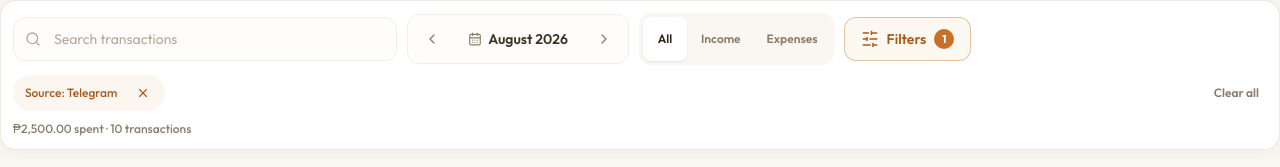
Test: TransactionFiltersBar › cancels pending search input when Clear all is pressed
Type "Amazon" into the search field labelled "Search transactions" at coordinates (205, 39), box [13,17,397,61]
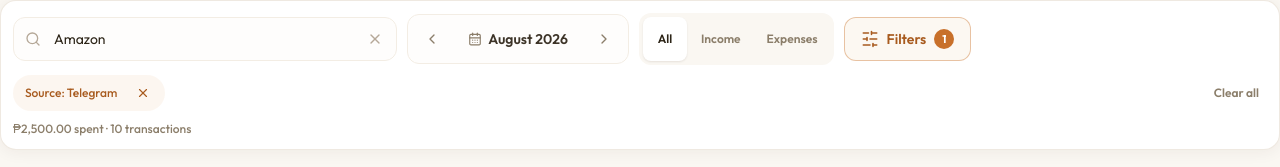
Click the button "Clear all" at coordinates (1236, 93), box [1206,75,1267,111]
Wait 300 ms
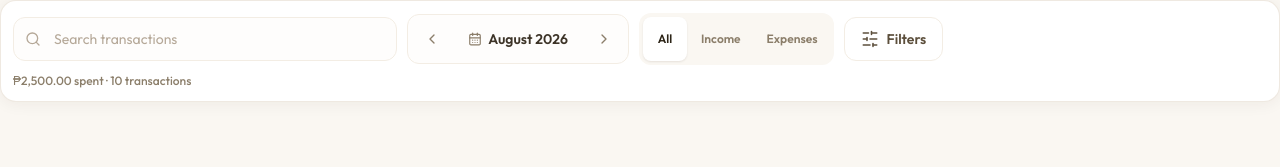
Expected: the search field labelled "Search transactions" is empty, [13,17,397,61]
